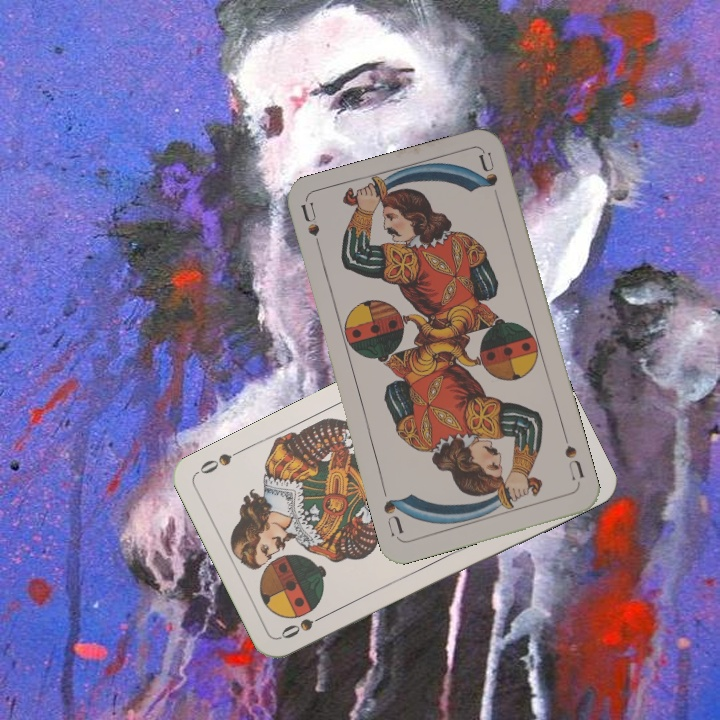SO: (276, 608, 332, 642)
SU: (297, 200, 326, 259), (559, 430, 587, 483)
